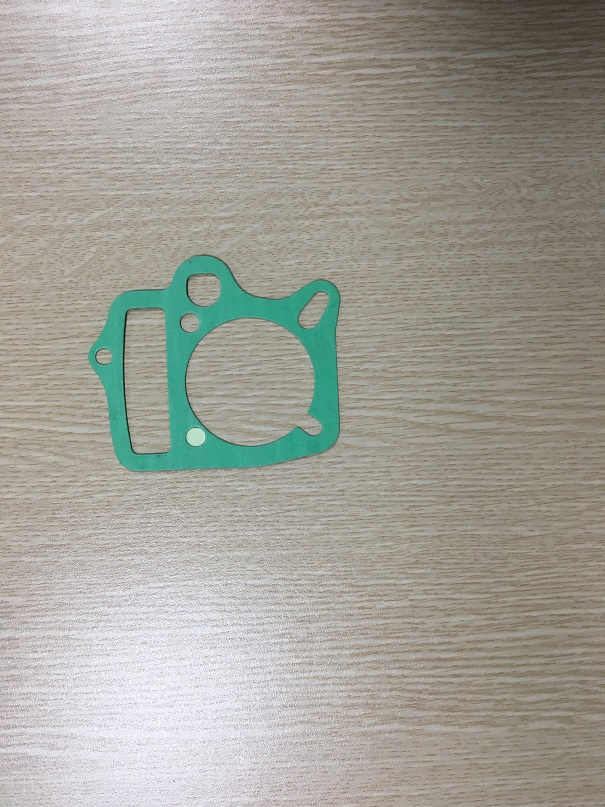type4: (84, 249, 350, 478)
